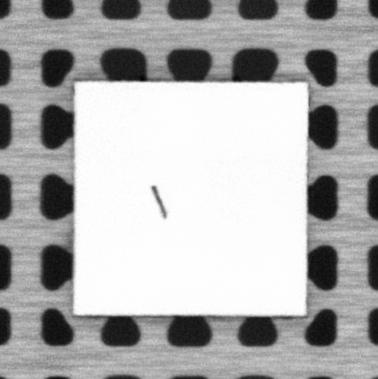DIE_INK: (152, 184, 168, 220)
